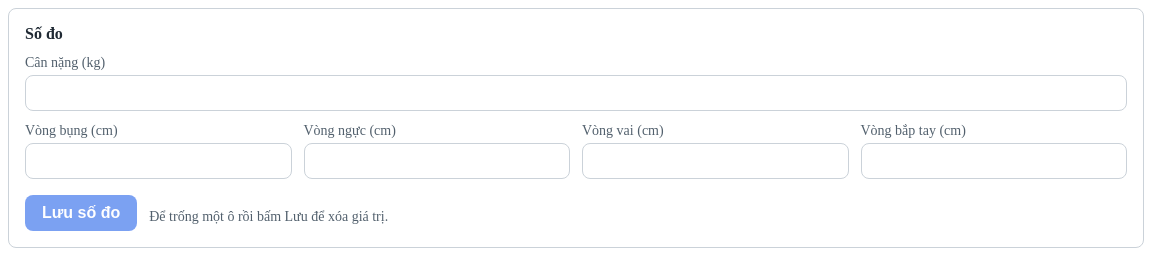
BodyLogForm — "Đã lưu" hiện sau khi bấm nút Lưu thành công › sửa vòng bụng rồi bấm Lưu, request thành công → hiện "Đã lưu ✓"
Type "90" into the number field labelled "Vòng bụng (cm)" at (158, 161), box [25,143,292,179]
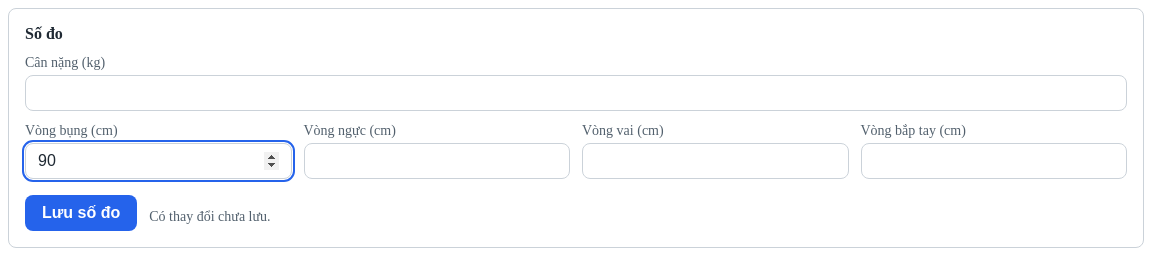
# Lưu-khi-blur đã bị bỏ (Task 2) — chỉ nút Lưu mới gửi request.
Click the button "Lưu số đo" at (81, 213), box [25,195,137,231]
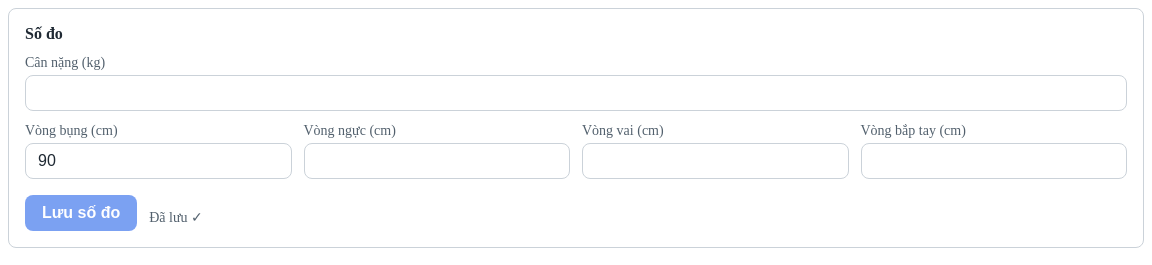
Check: the text "Đã lưu ✓" is shown, box [149,208,203,226]
